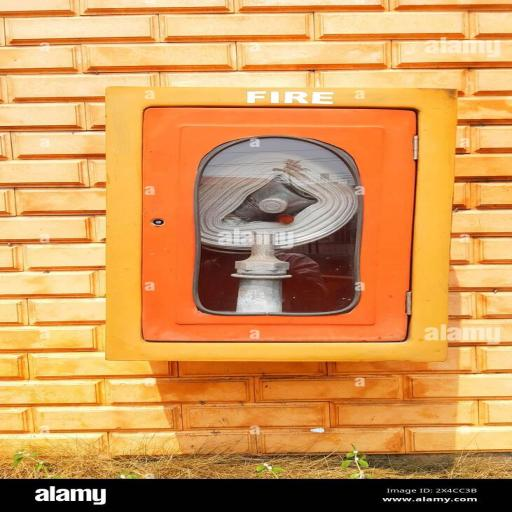fire_hose: (102, 83, 454, 358)
